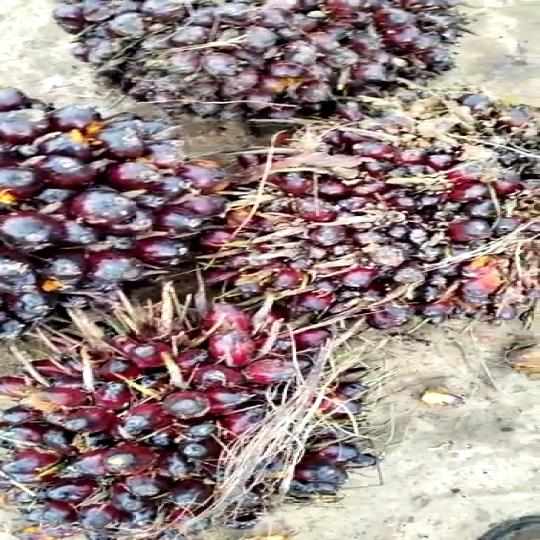kurang masak: (0, 301, 393, 540), (206, 81, 540, 345), (0, 76, 226, 333), (35, 0, 469, 119)
